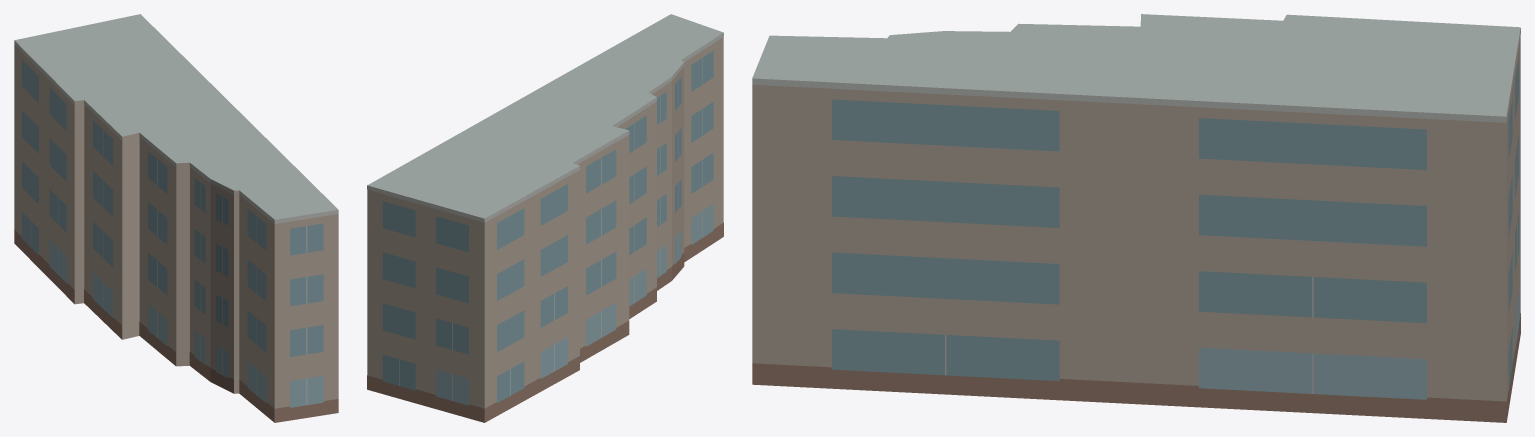
File: survey-upis-32816799.glb
The picture shows the model from 3 angles, left to right: view 1: azimuth 30°, elevation 25°; view 2: azimuth 150°, elevation 25°; view 3: azimuth 270°, elevation 25°; orthographic projection. The views are drawn at different scales.
Visible parts, largest first — view 1: survey-upis-32816799.tmp; view 2: survey-upis-32816799.tmp; view 3: survey-upis-32816799.tmp.
Part boxes in pixels (<box>): survey-upis-32816799.tmp: <box>14,14,338,422</box>; survey-upis-32816799.tmp: <box>367,14,723,422</box>; survey-upis-32816799.tmp: <box>752,14,1520,422</box>.
Size of the model in its own units: 8.56 by 11.9 by 27.08.
